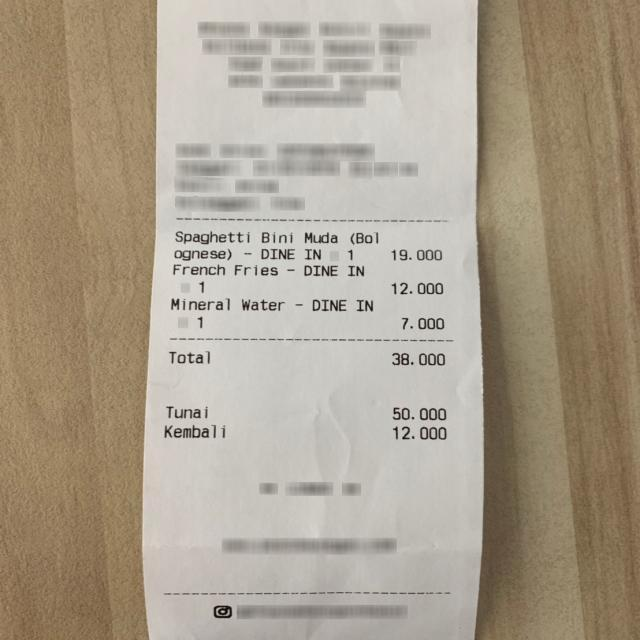kertas: (142, 0, 484, 640)
